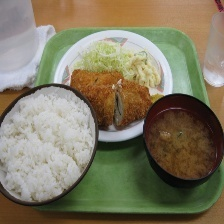rice: (0, 83, 97, 207)
